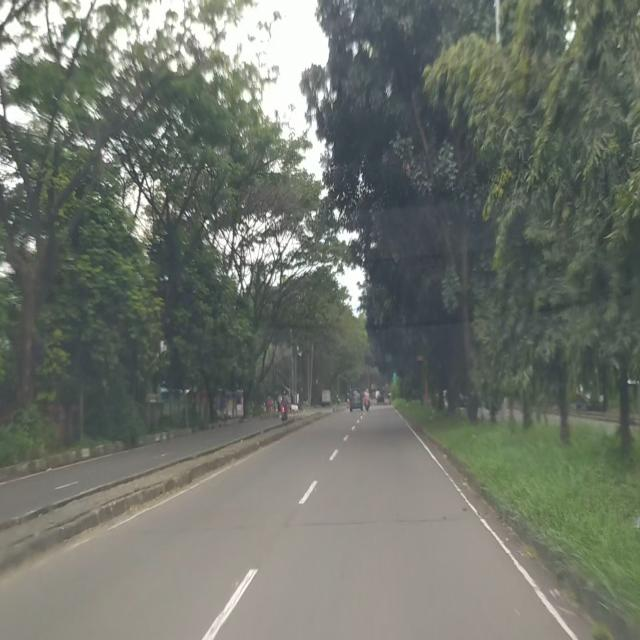Sewer Cover: (296, 512, 481, 529)
